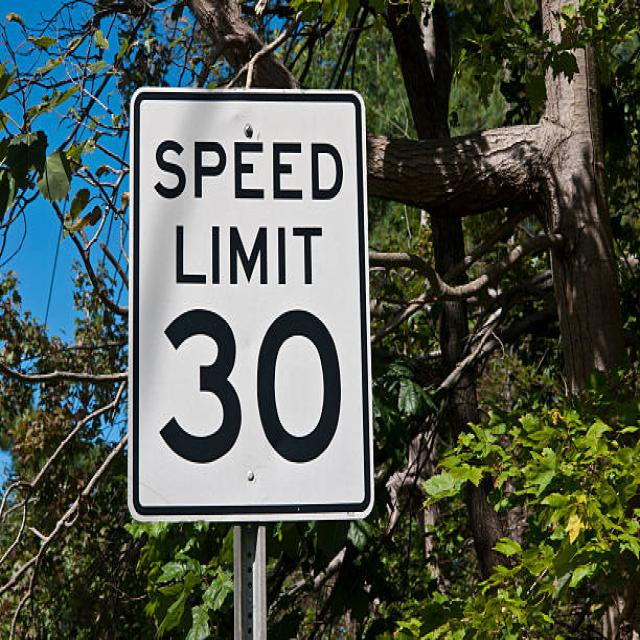Speed limit 30: (126, 85, 358, 498)
